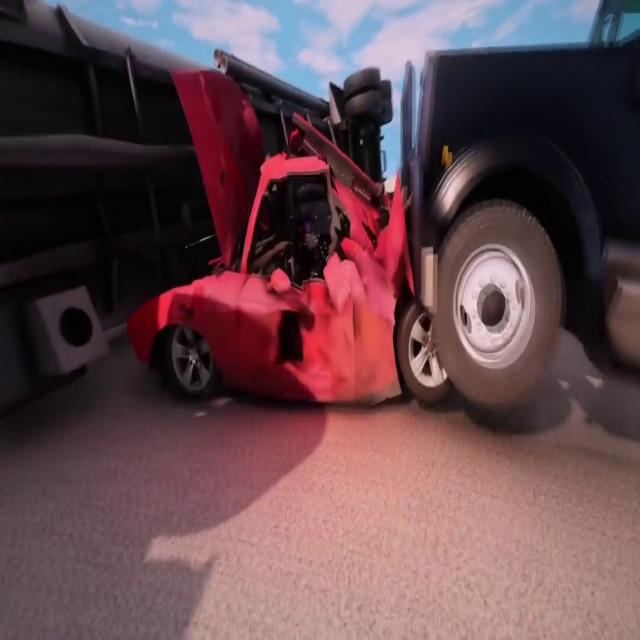accident: (60, 49, 557, 417)
